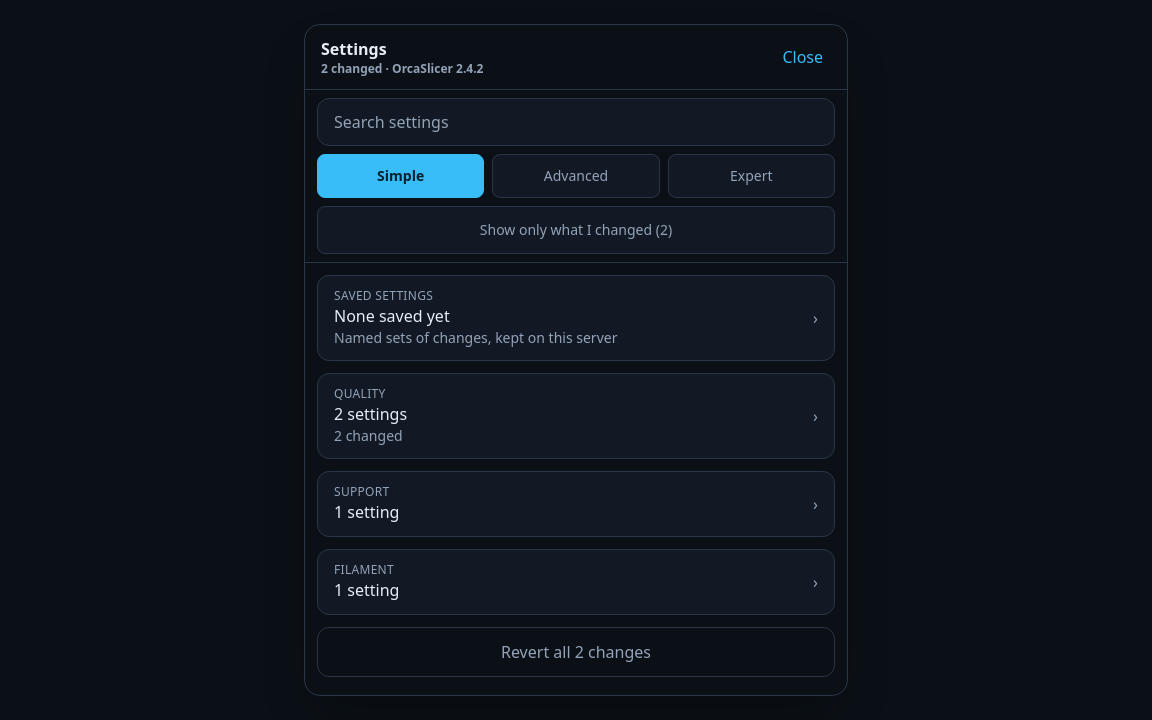
Test: the settings sheet › marks a modified value and offers a revert that clears exactly it
Later steps or results of the test are not shown.
Click the button with test id "settings-group-Quality" at [360, 394], box [317, 373, 835, 459]
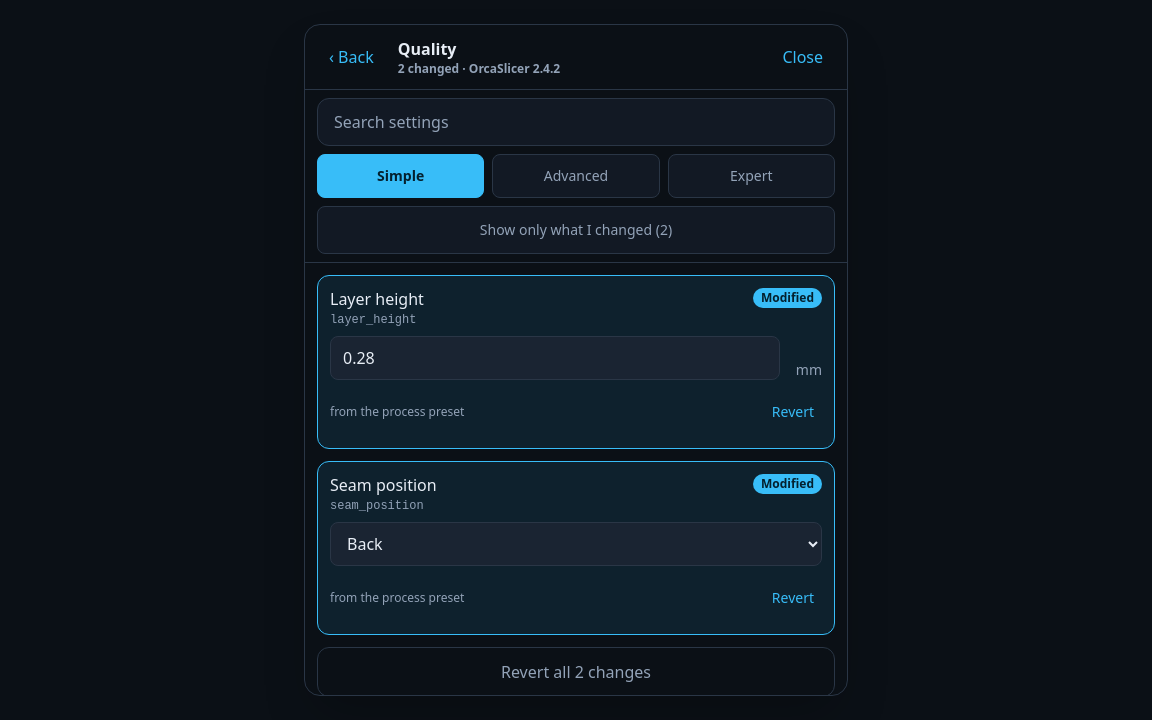
Result: the text with test id "modified-layer_height" is shown at [753, 288, 822, 308]
